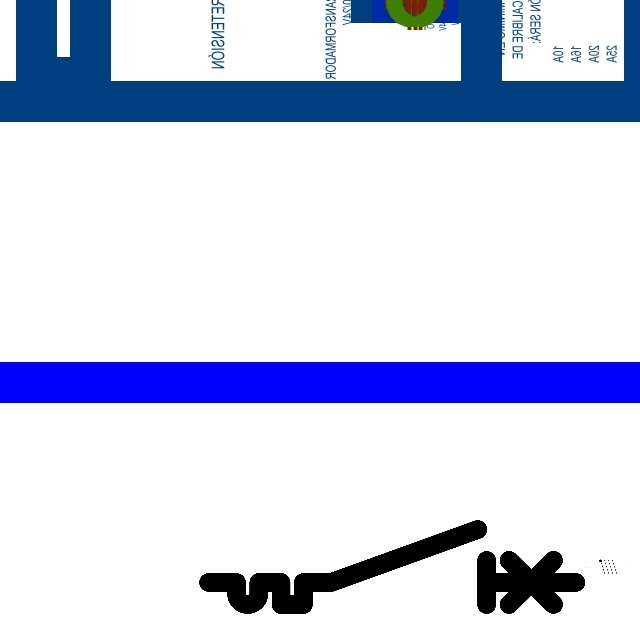interruptor_termomagnetico: (199, 520, 585, 614)
